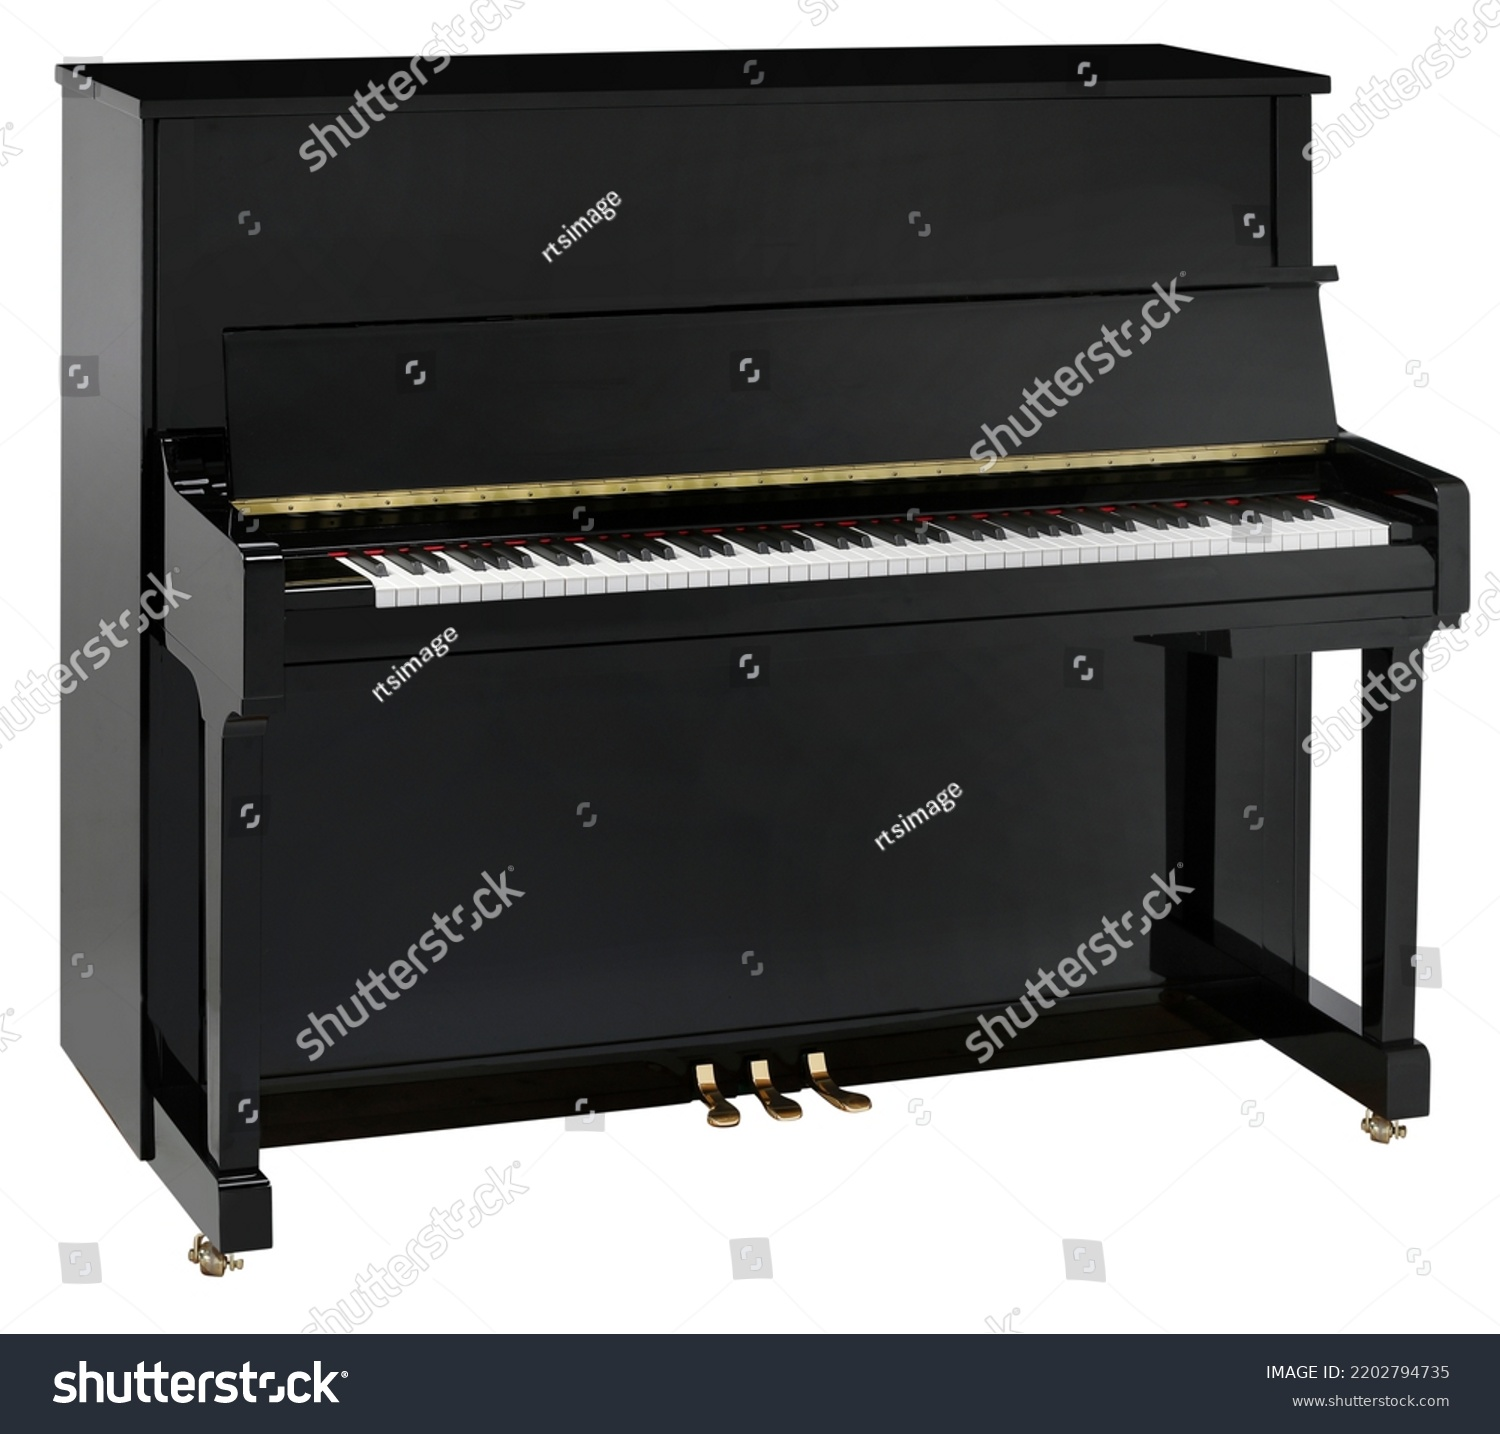Piano: (1, 1, 1467, 1225)
